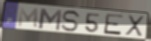5: (84, 13, 101, 34)
E: (102, 13, 125, 36)
M: (38, 7, 63, 32), (17, 6, 40, 30)
S: (61, 9, 83, 33)
X: (124, 14, 146, 38)
